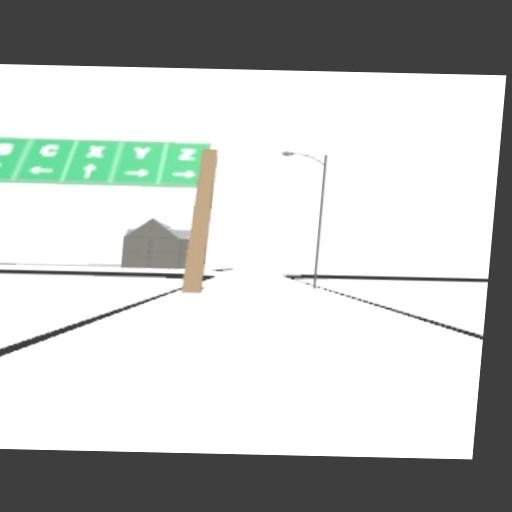B: (0, 142, 13, 155)
C: (39, 143, 58, 156)
Left: (29, 165, 53, 174)
Right: (122, 168, 149, 179), (172, 169, 196, 180)
Straight: (81, 163, 97, 179), (0, 161, 2, 176)
X: (86, 144, 103, 157)
Y: (132, 147, 149, 158)
Z: (176, 147, 195, 160)
